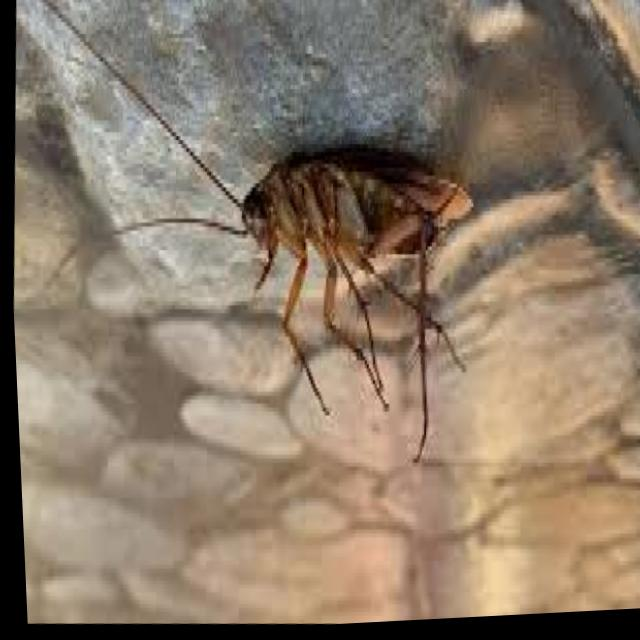Cockroach: (0, 0, 504, 508)
